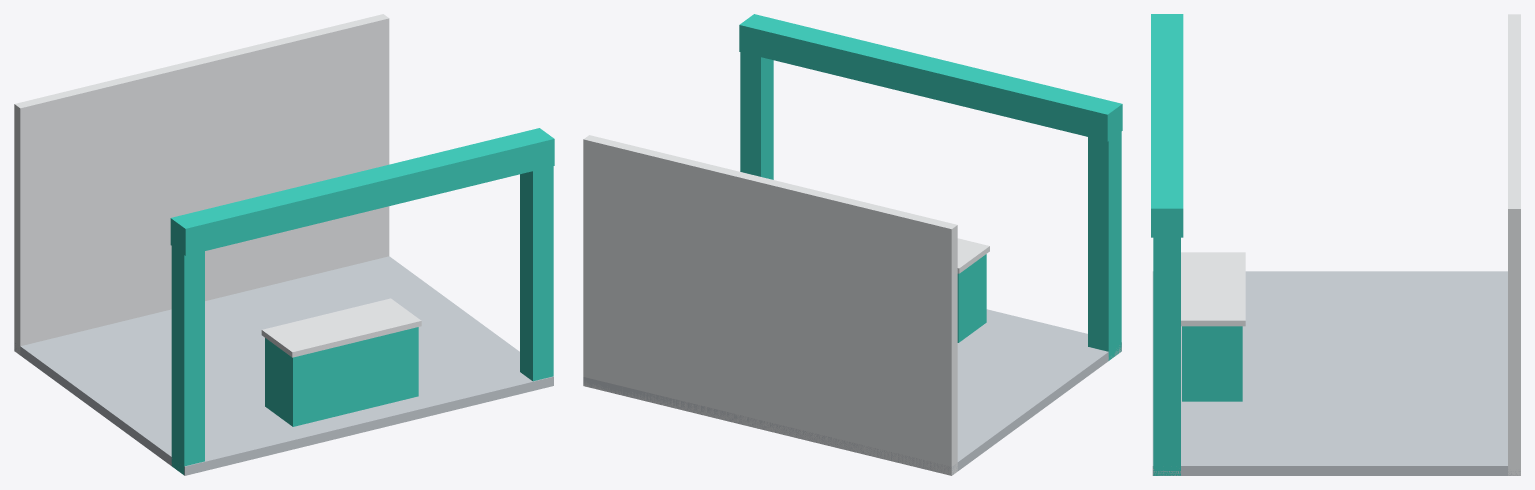
The picture shows the model from 3 angles, left to right: view 1: azimuth 30°, elevation 25°; view 2: azimuth 150°, elevation 25°; view 3: azimuth 270°, elevation 25°; orthographic projection. The views are drawn at different scales.
Parts seen in each view (by area): view 1: Exhibition Booth Concept; view 2: Exhibition Booth Concept; view 3: Exhibition Booth Concept.
Part boxes in pixels (x1,y1,x2,y2): Exhibition Booth Concept: (14,14,554,475); Exhibition Booth Concept: (583,14,1122,475); Exhibition Booth Concept: (1151,14,1520,475).
Bounding box in the file's own units: 5 × 3.2 × 4.02.
